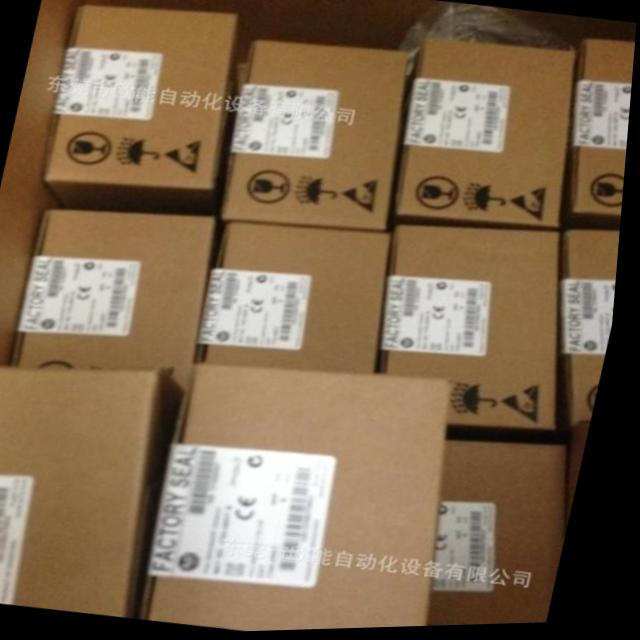box: (144, 365, 460, 633), (0, 363, 189, 620), (44, 5, 239, 213), (17, 208, 221, 401), (383, 222, 564, 436), (221, 40, 410, 234), (393, 43, 579, 233), (200, 222, 396, 375), (439, 437, 574, 629), (564, 41, 636, 233), (564, 231, 624, 435), (573, 426, 597, 541)
